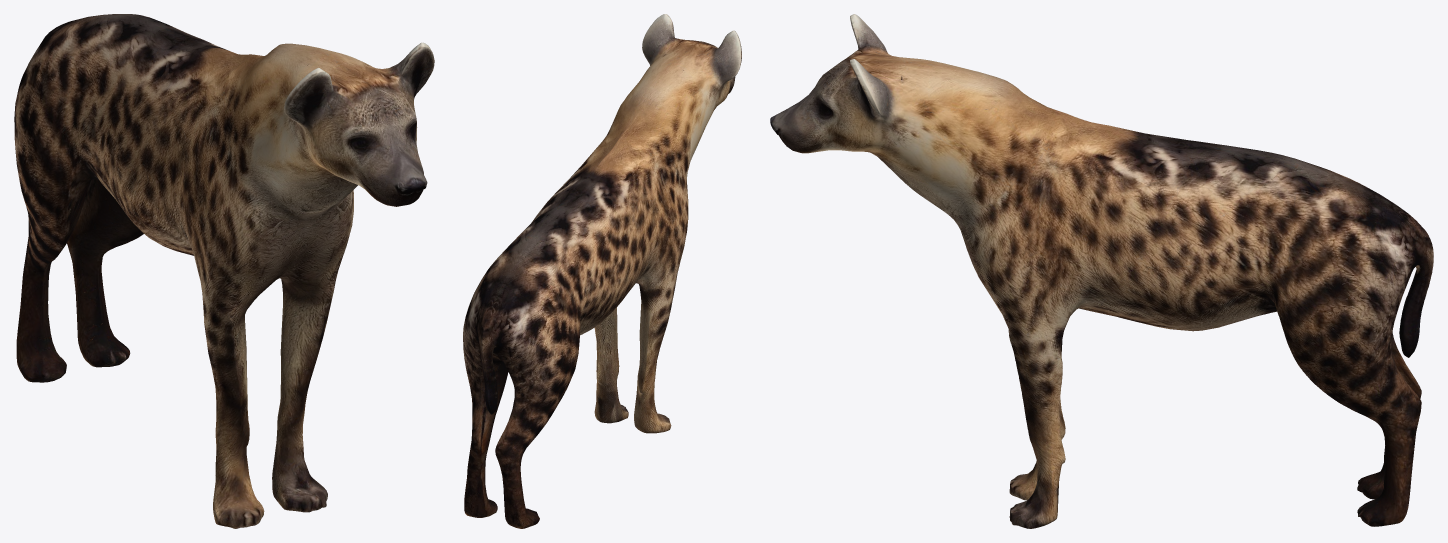
The model's file is hyena.glb.
3 renders of one model, left to right at view 1: azimuth 30°, elevation 25°; view 2: azimuth 150°, elevation 25°; view 3: azimuth 270°, elevation 25°, orthographic. The views are drawn at different scales.
Size of the model in its own units: 0.4303 by 1.48 by 1.9.
Materials: 1 (1 with a texture image).
